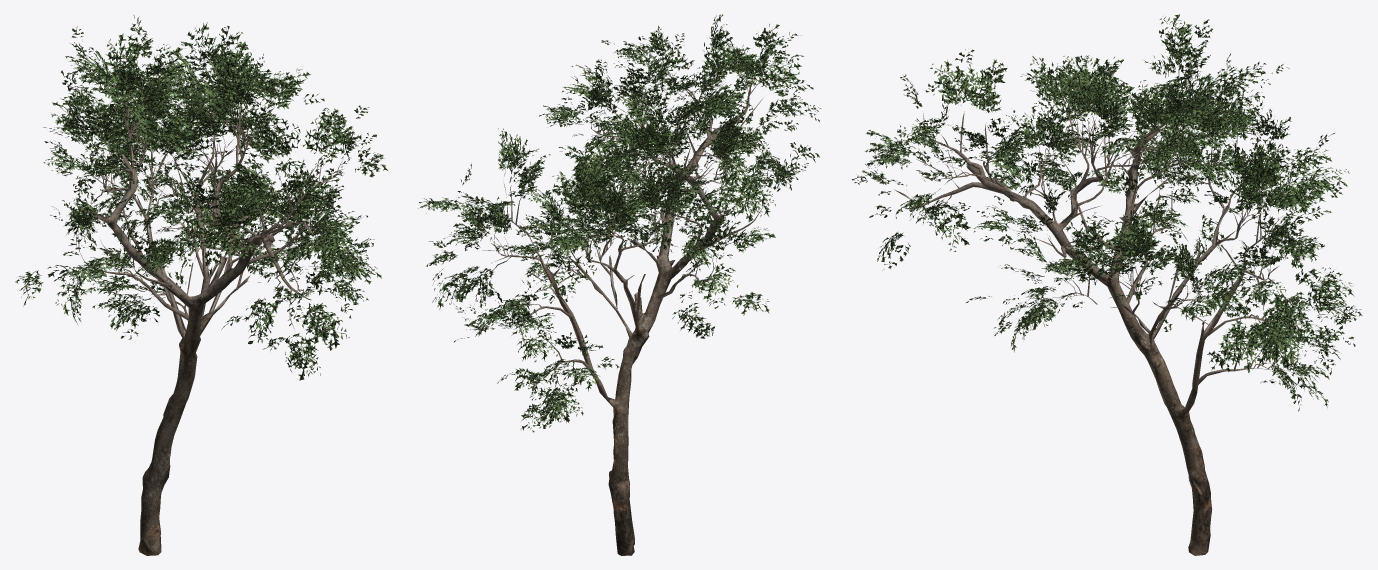
Rendered from tree_small_02_simplified.glb.
3 renders of one model, left to right at view 1: azimuth 30°, elevation 25°; view 2: azimuth 150°, elevation 25°; view 3: azimuth 270°, elevation 25°, orthographic. The views are drawn at different scales.
Visible parts, largest first — view 1: tree_small_02_LOD0; view 2: tree_small_02_LOD0; view 3: tree_small_02_LOD0.
Boxes of the visible parts, x1,y1,x2,y2 form: tree_small_02_LOD0: (15,15,387,555); tree_small_02_LOD0: (418,14,821,555); tree_small_02_LOD0: (852,14,1362,555).
Size of the model in its own units: 2.91 by 4.55 by 4.23.
Materials: 3 (3 with a texture image).
